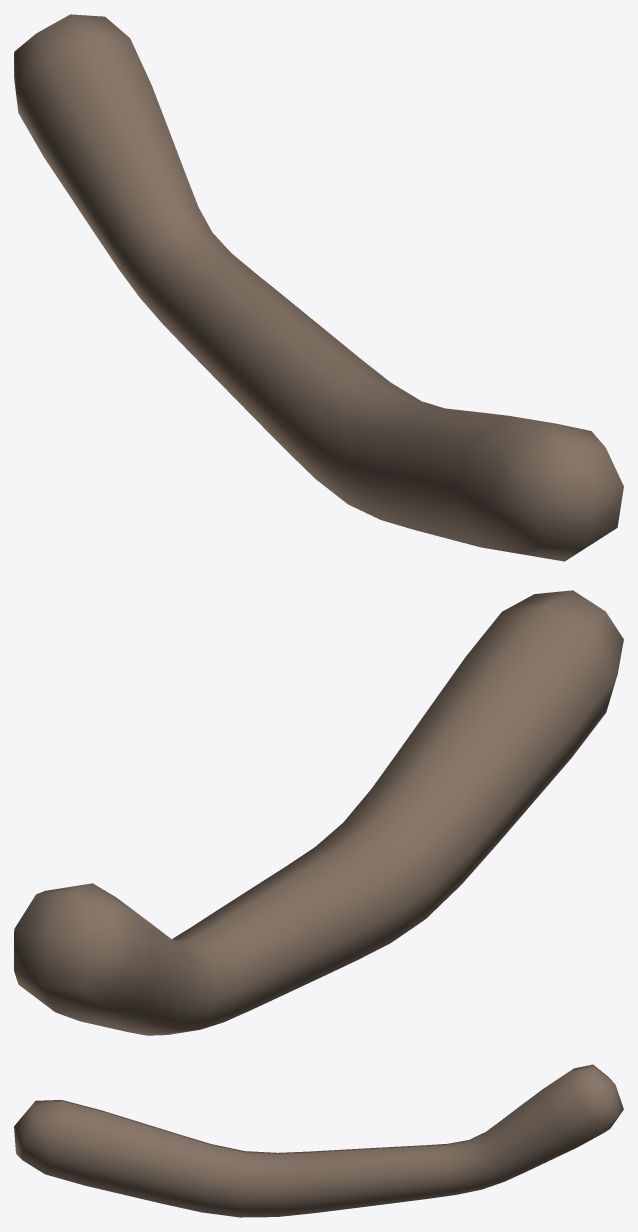
File: tail.glb
3 renders of one model, top to bottom at view 1: azimuth 30°, elevation 25°; view 2: azimuth 150°, elevation 25°; view 3: azimuth 270°, elevation 25°, orthographic. The views are drawn at different scales.
Visible parts, largest first — view 1: tail; view 2: tail; view 3: tail.
Boxes of the visible parts, left/top/right/bottom form: tail: left=14, top=14, right=623, bottom=561; tail: left=14, top=590, right=623, bottom=1035; tail: left=14, top=1064, right=623, bottom=1217.
Size of the model in its own units: 0.034 by 0.0689 by 0.2586.
